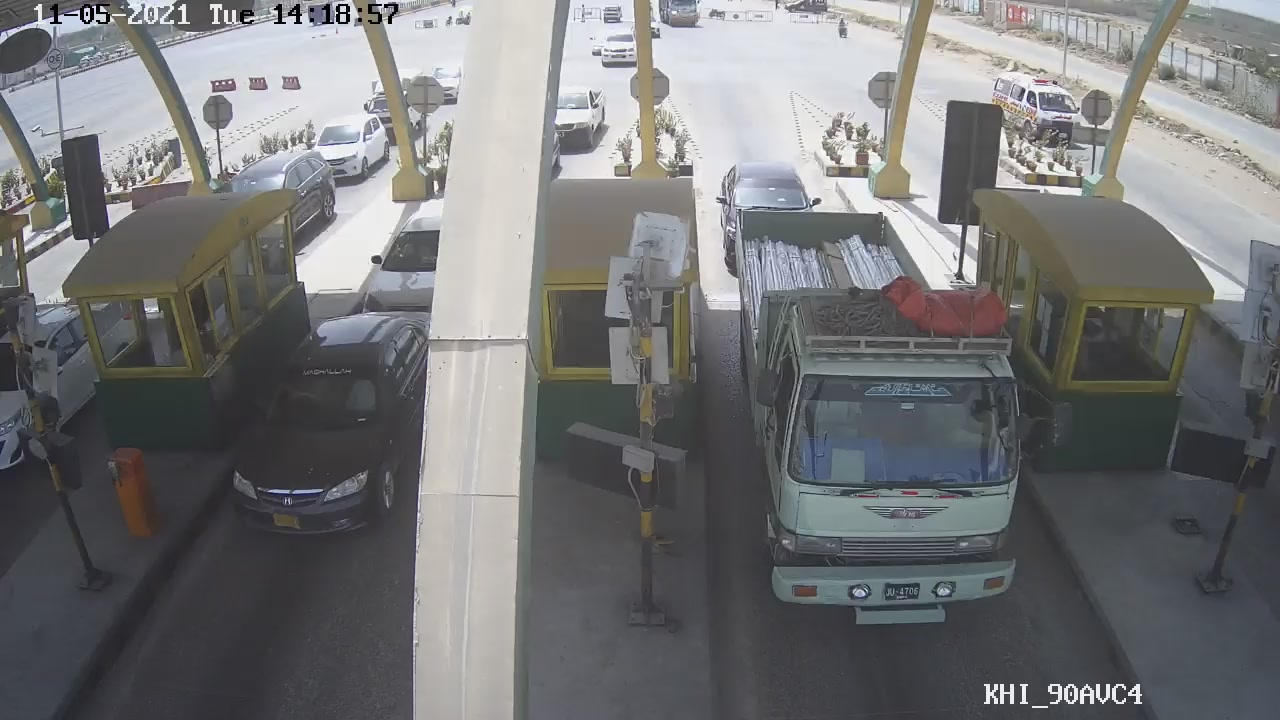F5: (704, 206, 1022, 631)
